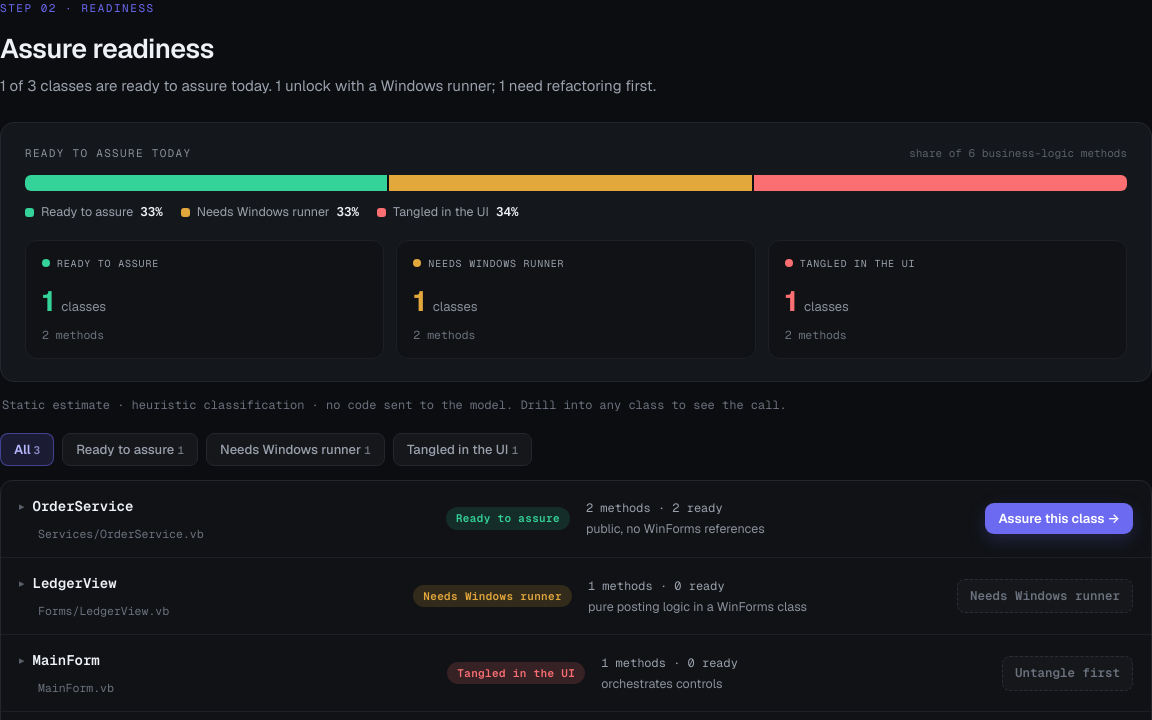
Scenario: StepReadiness (portfolio report) › filters the table to a single bucket
The image size is (1152, 720).
expect the text "MainForm" is shown: met, box [32,650,100,671]
Click the button "Ready to assure 1": [130, 449] box [62,433,198,466]
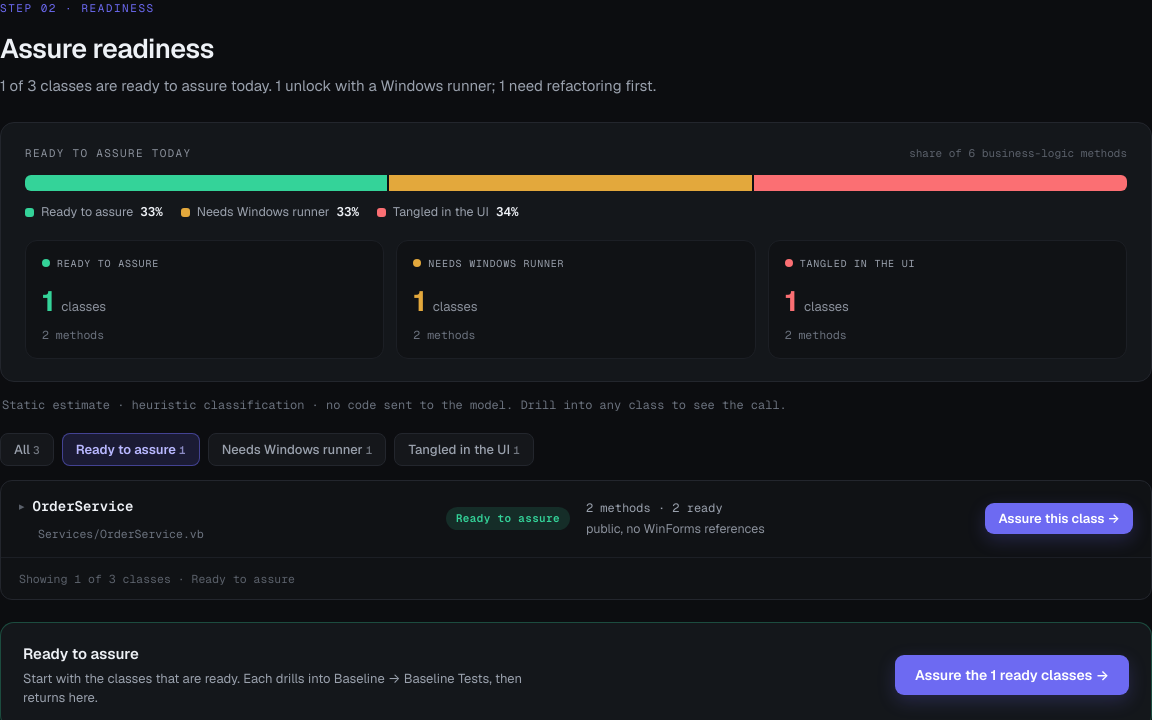
expect the text "OrderService" is shown: met, box [32,496,133,517]
expect the text "MainForm" is gone: met
expect the text "LedgerView" is gone: met
